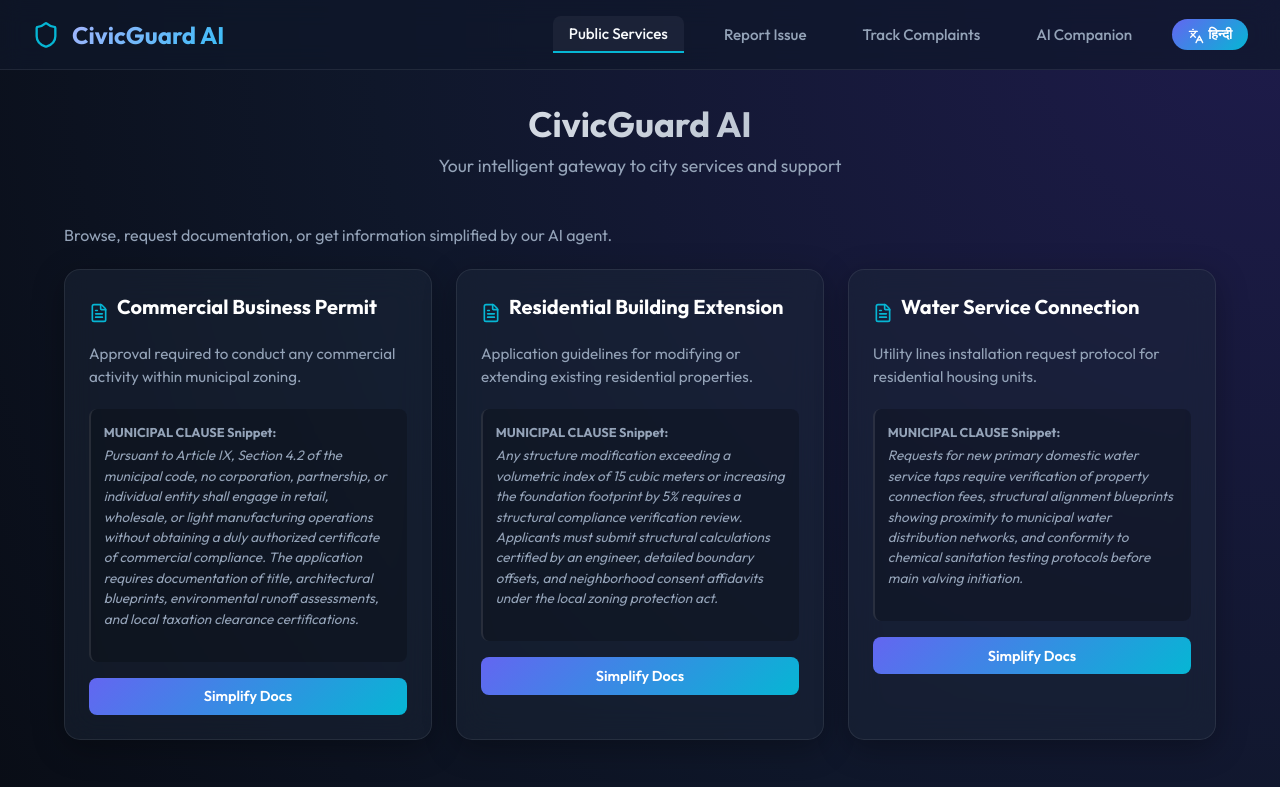
Test case: Report issue form › updates coordinates from browser geolocation
Click the button "Report Issue" at point(765, 34), box 708,17 -> 823,52
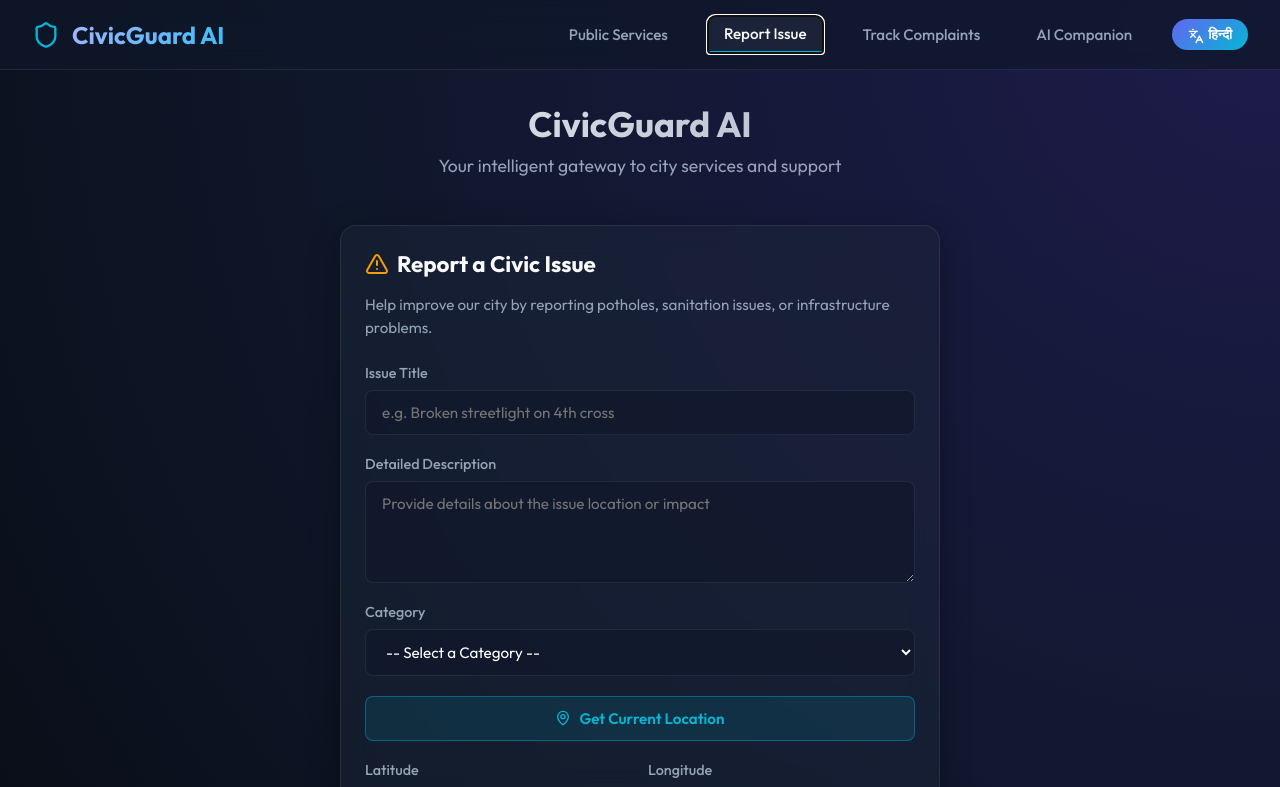
Click the button "Get Current Location" at point(640, 718), box 365,696 -> 915,741
(page scrolled)
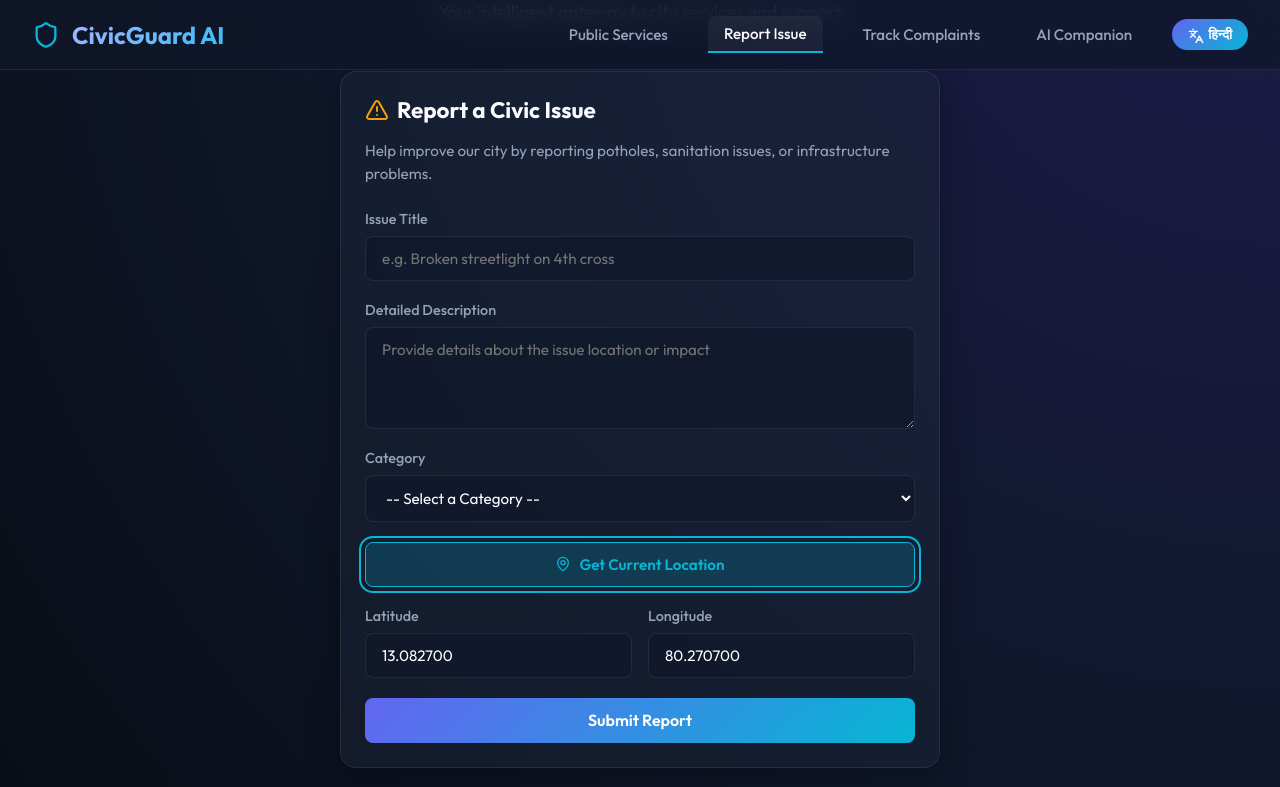
Expected: the field labelled "Latitude" holds "13.082700", 365,633 -> 632,678
